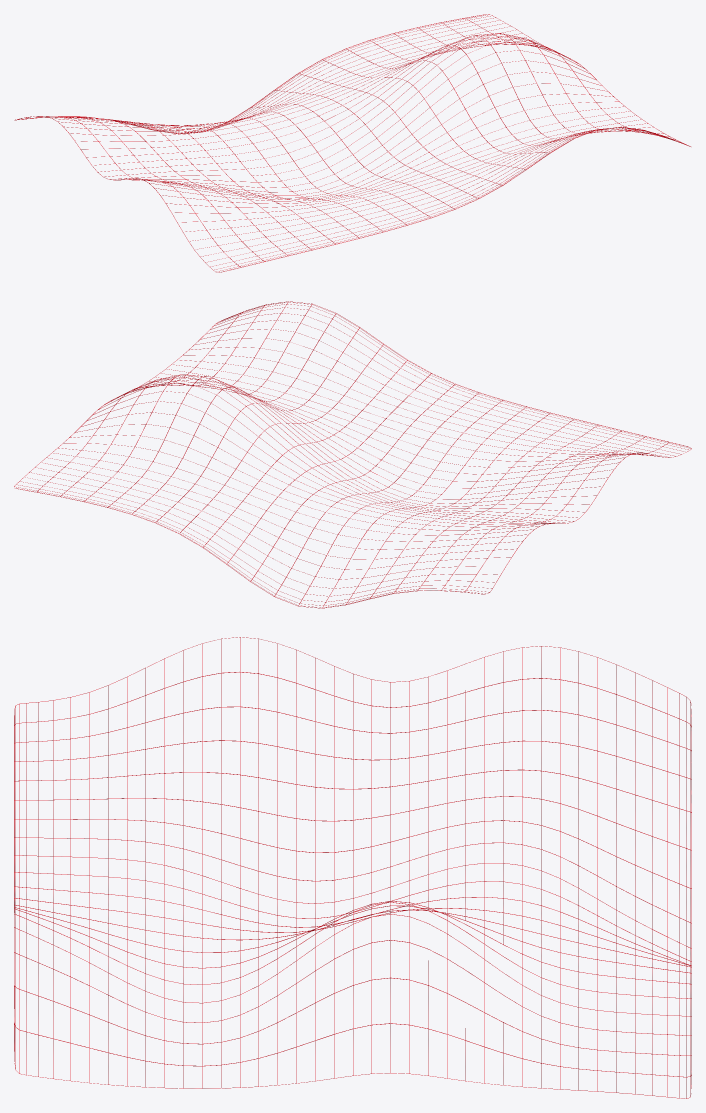
The model's file is deform_stripes.gltf.
3 renders of one model, top to bottom at view 1: azimuth 30°, elevation 25°; view 2: azimuth 150°, elevation 25°; view 3: azimuth 270°, elevation 25°, orthographic. The views are drawn at different scales.
Visible parts, largest first — view 1: Plane; view 2: Plane; view 3: Plane.
Part boxes in pixels (left/top/right/bottom): Plane: left=14, top=14, right=690, bottom=272; Plane: left=14, top=301, right=691, bottom=608; Plane: left=14, top=637, right=691, bottom=1098.
Size of the model in its own units: 38.68 by 8.85 by 28.79.
